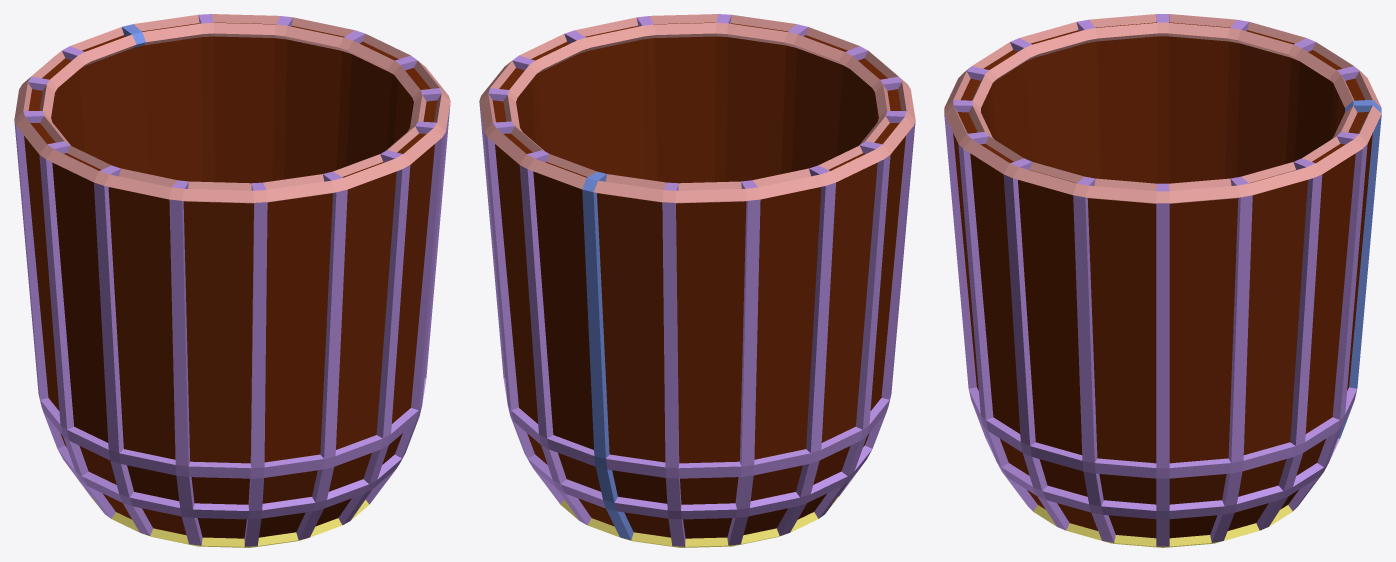
File: CupBase.fbx
3 renders of one model, left to right at view 1: azimuth 30°, elevation 25°; view 2: azimuth 150°, elevation 25°; view 3: azimuth 270°, elevation 25°, orthographic.
Visible parts, largest first — view 1: CupBase; view 2: CupBase; view 3: CupBase.
Part boxes in pixels (x1,y1,x2,y2): CupBase: (14,14,450,547); CupBase: (479,14,915,547); CupBase: (944,14,1381,547).
Size of the model in its own units: 67.02 by 65.71 by 67.02.
